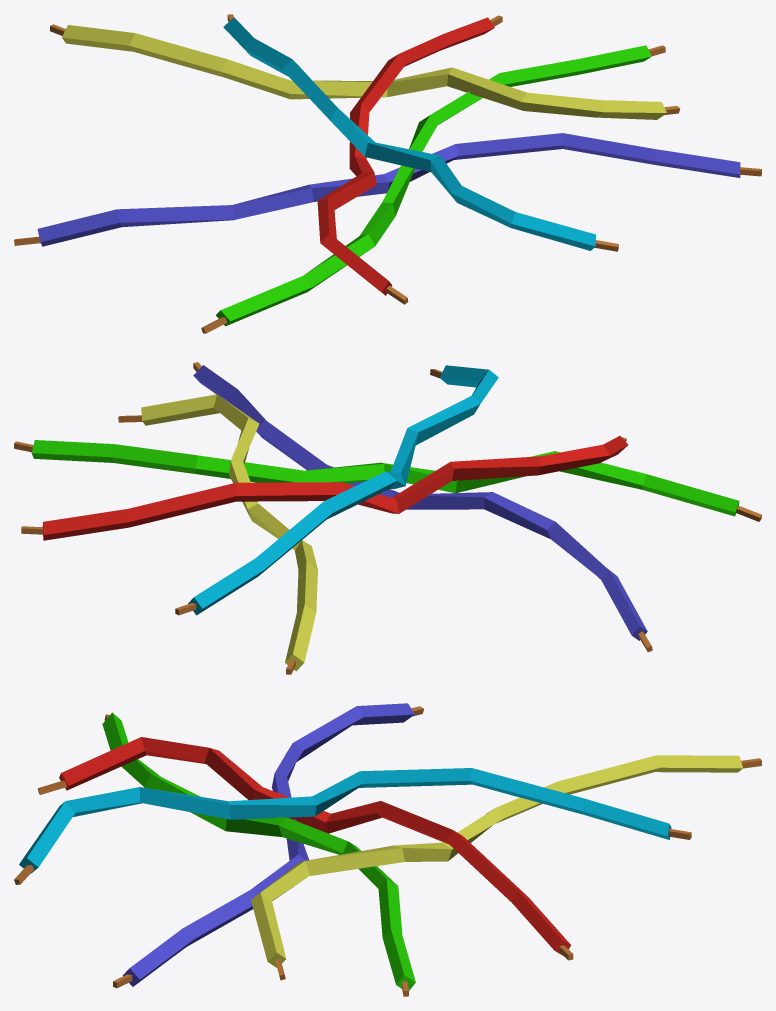
Rendered from Провода(н_н).fbx.
3 views of the same model, one above another, from view 1: azimuth 30°, elevation 25°; view 2: azimuth 150°, elevation 25°; view 3: azimuth 270°, elevation 25° (orthographic). The views are drawn at different scales.
Visible parts, largest first — view 1: Куб.002, Куб.005, Куб.003, Куб.004, Куб.001; view 2: Куб.001, Куб.003, Куб.004, Куб.002, Куб.005; view 3: Куб.004, Куб.001, Куб.005, Куб.002, Куб.003.
Part boxes in pixels (x1,y1,x2,y2): Куб.002: (14, 133, 761, 246); Куб.005: (50, 24, 680, 119); Куб.003: (201, 45, 665, 333); Куб.004: (223, 14, 618, 251); Куб.001: (317, 15, 502, 304); Куб.001: (21, 436, 628, 540); Куб.003: (14, 440, 761, 521); Куб.004: (175, 365, 498, 615); Куб.002: (193, 362, 652, 652); Куб.005: (118, 394, 317, 674); Куб.004: (14, 768, 691, 884); Куб.001: (37, 737, 573, 960); Куб.005: (251, 755, 761, 980); Куб.002: (113, 703, 423, 988); Куб.003: (102, 712, 415, 996).
Size of the model in its own units: 450 by 63.54 by 433.
